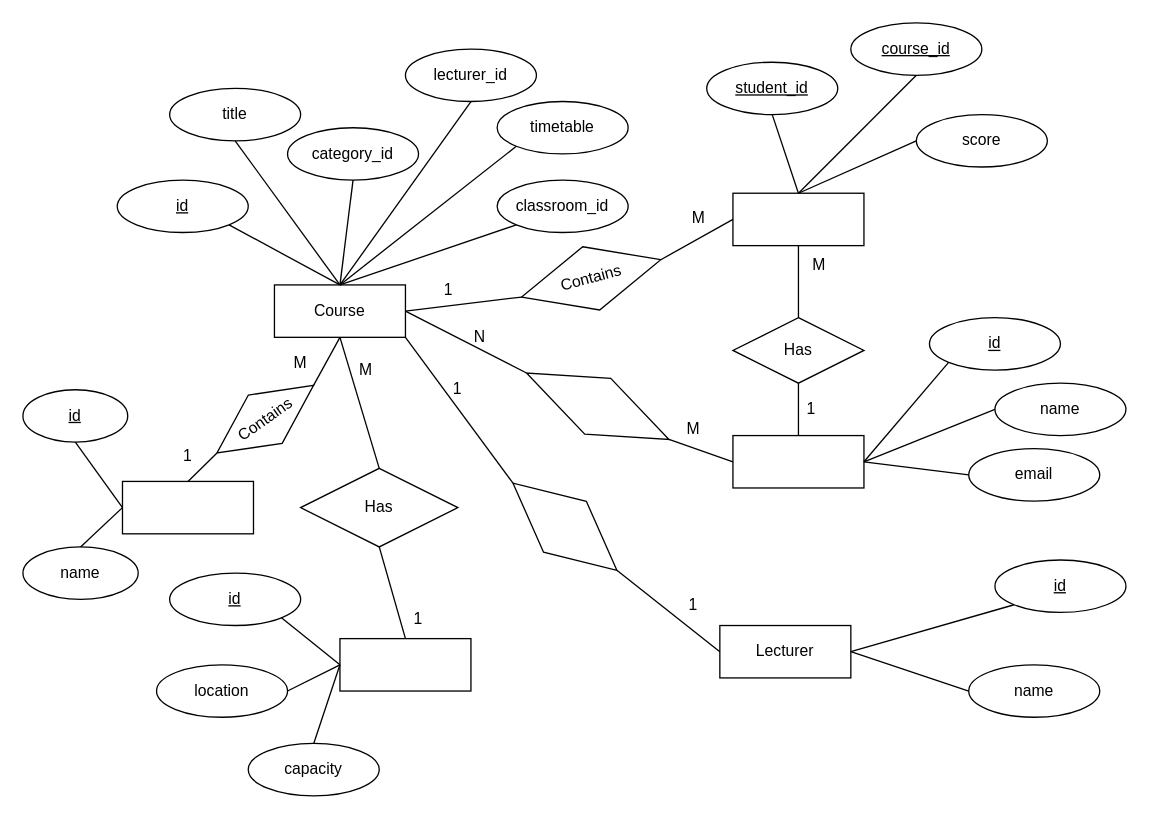
Some shapes in this 1149 by 819 pixel diagram are drawn without their labels. Here are the shapes that lost their labels. From the top down, the centre of each, then its label:
the point at 798,219: Grade
the point at 597,406: Selects
the point at 798,461: Student
the point at 187,507: Category
the point at 564,526: Teaches
the point at 405,664: Classroom
